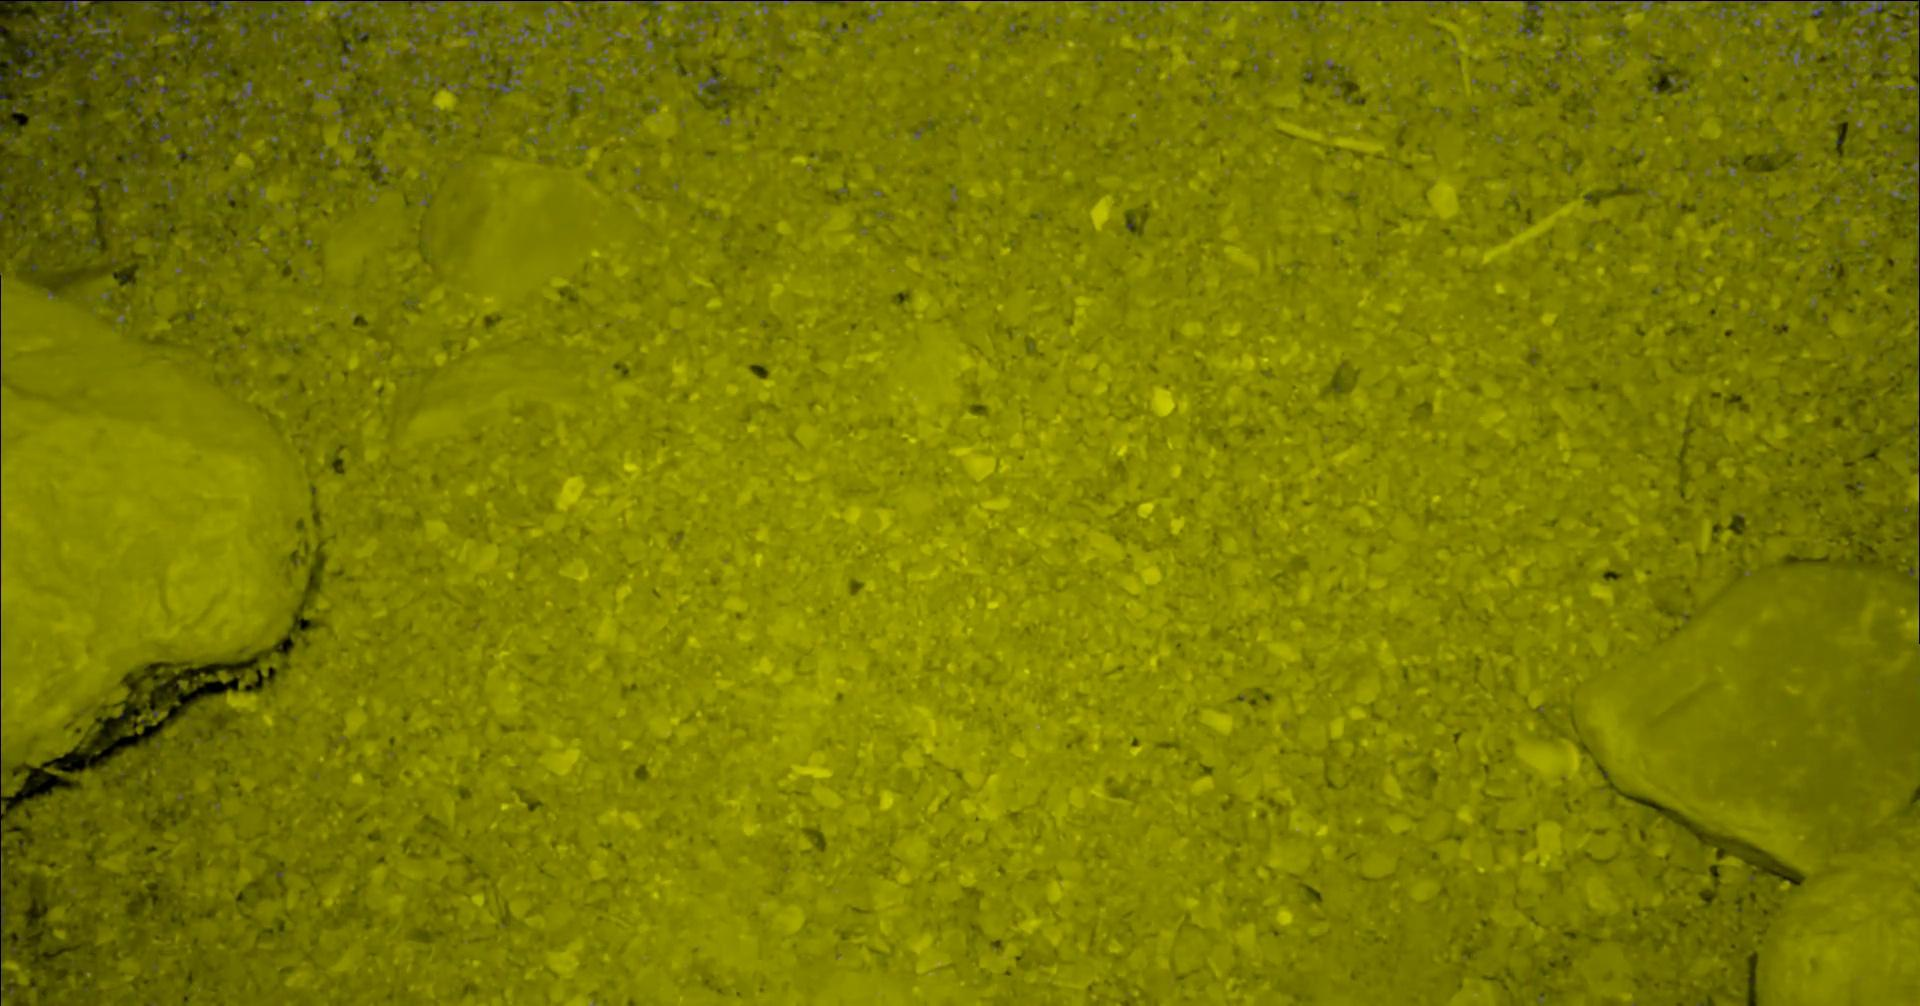ant: (1859, 0, 1920, 58), (1524, 0, 1581, 17), (41, 0, 83, 22), (1716, 0, 1768, 10), (89, 13, 110, 37), (171, 10, 190, 33), (1886, 25, 1912, 41), (698, 72, 723, 89), (102, 50, 127, 65), (1812, 0, 1832, 17), (18, 65, 42, 77), (262, 9, 283, 23), (239, 80, 254, 99), (1914, 140, 1920, 184), (752, 0, 796, 5), (1839, 0, 1868, 6), (502, 79, 516, 91), (127, 75, 142, 86), (1917, 191, 1920, 244), (513, 0, 564, 1)
